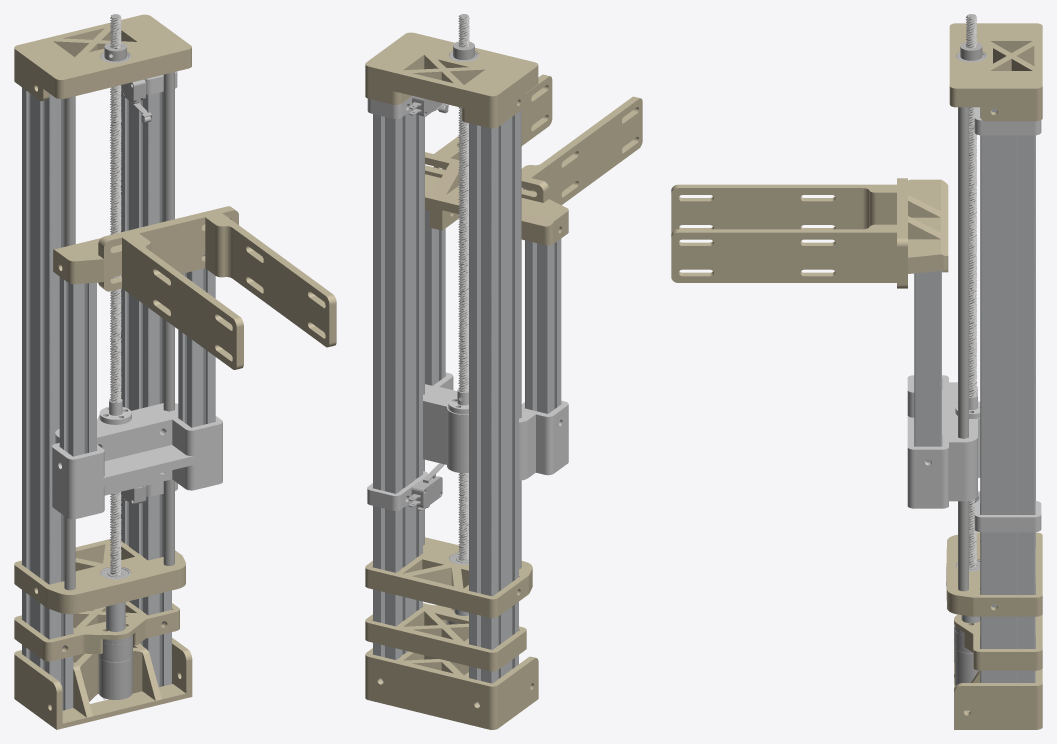
File: tornillo-sin-fin.glb
3 views of the same model, side by side, from view 1: azimuth 30°, elevation 25°; view 2: azimuth 150°, elevation 25°; view 3: azimuth 270°, elevation 25° (orthographic). The views are drawn at different scales.
Visible parts, largest first — view 1: 26_2040-500, 27_2040-500, 07_sujetador_de_PERFIL_V-SLOT_20X20, 05_Sujetador_superior, 00_Sujetador_base, 09_Sujetador_Der_de_secadora, 10_Sujetador_Izq_de_secadora, 03_Sujetados_de_varillas_lisas, 11_Variila_lisa_8mm, 24_2020-200, 08_Sujetador_superior_de_PERFIL_20X20, 01_Sujetador_de_motor_jga25 (+7 smaller); view 2: 26_2040-500, 27_2040-500, 05_Sujetador_superior, 00_Sujetador_base, 24_2020-200, 03_Sujetados_de_varillas_lisas, 10_Sujetador_Izq_de_secadora, 01_Sujetador_de_motor_jga25, 08_Sujetador_superior_de_PERFIL_20X20, 04_Sujetador_de_brida, 21_Usillo_T8_de_450mm_, 25_2020-200 (+7 smaller); view 3: 27_2040-500, 09_Sujetador_Der_de_secadora, 10_Sujetador_Izq_de_secadora, 05_Sujetador_superior, 08_Sujetador_superior_de_PERFIL_20X20, 25_2020-200, 11_Variila_lisa_8mm, 00_Sujetador_base, 07_sujetador_de_PERFIL_V-SLOT_20X20, 03_Sujetados_de_varillas_lisas, 21_Usillo_T8_de_450mm_, 04_Sujetador_de_brida (+4 smaller).
Boxes of the visible parts, left/top/right/bottom form: 26_2040-500: left=22, top=87, right=73, bottom=710; 27_2040-500: left=121, top=91, right=171, bottom=686; 07_sujetador_de_PERFIL_V-SLOT_20X20: left=52, top=414, right=222, bottom=519; 05_Sujetador_superior: left=14, top=14, right=191, bottom=101; 00_Sujetador_base: left=14, top=638, right=192, bottom=729; 09_Sujetador_Der_de_secadora: left=205, top=213, right=336, bottom=347; 10_Sujetador_Izq_de_secadora: left=122, top=233, right=243, bottom=369; 03_Sujetados_de_varillas_lisas: left=14, top=539, right=185, bottom=614; 11_Variila_lisa_8mm: left=64, top=72, right=174, bottom=590; 24_2020-200: left=59, top=277, right=96, bottom=456; 08_Sujetador_superior_de_PERFIL_20X20: left=53, top=206, right=238, bottom=291; 01_Sujetador_de_motor_jga25: left=14, top=601, right=179, bottom=661; 26_2040-500: left=469, top=112, right=518, bottom=705; 27_2040-500: left=373, top=110, right=422, bottom=681; 05_Sujetador_superior: left=365, top=32, right=538, bottom=128; 00_Sujetador_base: left=365, top=648, right=538, bottom=729; 24_2020-200: left=525, top=239, right=561, bottom=413; 03_Sujetados_de_varillas_lisas: left=365, top=537, right=532, bottom=617; 10_Sujetador_Izq_de_secadora: left=521, top=96, right=642, bottom=205; 01_Sujetador_de_motor_jga25: left=365, top=603, right=526, bottom=671; 08_Sujetador_superior_de_PERFIL_20X20: left=425, top=152, right=568, bottom=245; 04_Sujetador_de_brida: left=423, top=387, right=535, bottom=480; 21_Usillo_T8_de_450mm_: left=458, top=14, right=469, bottom=560; 25_2020-200: left=425, top=210, right=445, bottom=385; 27_2040-500: left=980, top=108, right=1035, bottom=682; 09_Sujetador_Der_de_secadora: left=671, top=224, right=896, bottom=282; 10_Sujetador_Izq_de_secadora: left=671, top=184, right=896, bottom=233; 05_Sujetador_superior: left=949, top=23, right=1042, bottom=121; 08_Sujetador_superior_de_PERFIL_20X20: left=897, top=178, right=948, bottom=288; 25_2020-200: left=914, top=270, right=941, bottom=462; 11_Variila_lisa_8mm: left=958, top=107, right=968, bottom=591; 00_Sujetador_base: left=954, top=627, right=1042, bottom=729; 07_sujetador_de_PERFIL_V-SLOT_20X20: left=907, top=375, right=948, bottom=508; 03_Sujetados_de_varillas_lisas: left=946, top=532, right=1042, bottom=616; 21_Usillo_T8_de_450mm_: left=965, top=14, right=977, bottom=567; 04_Sujetador_de_brida: left=949, top=382, right=980, bottom=501.
Size of the model in its own units: 134 by 543 by 268.
